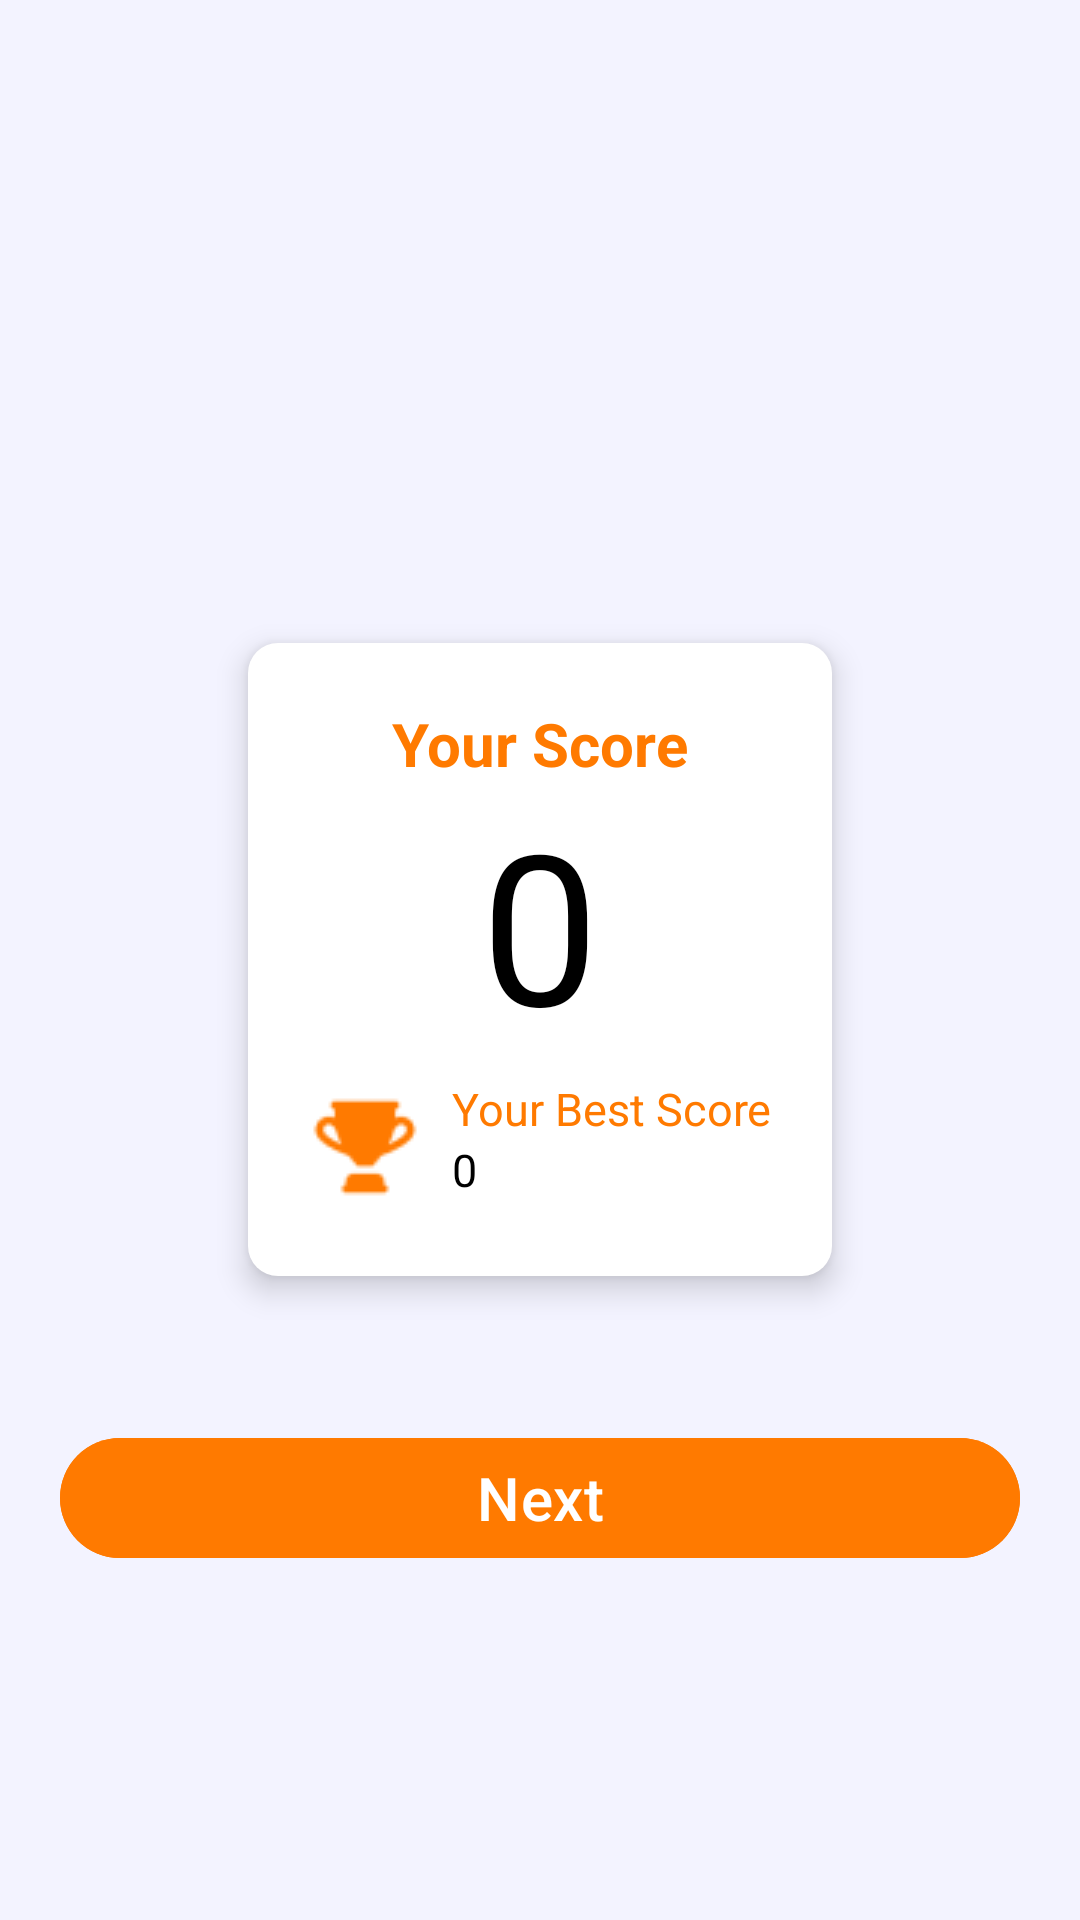

Locate icon controls on the screen. Image size 1080px×1920px, boxes as bbox(x1, y1, x2, y2).
trophy: bbox(313, 1099, 417, 1195)
